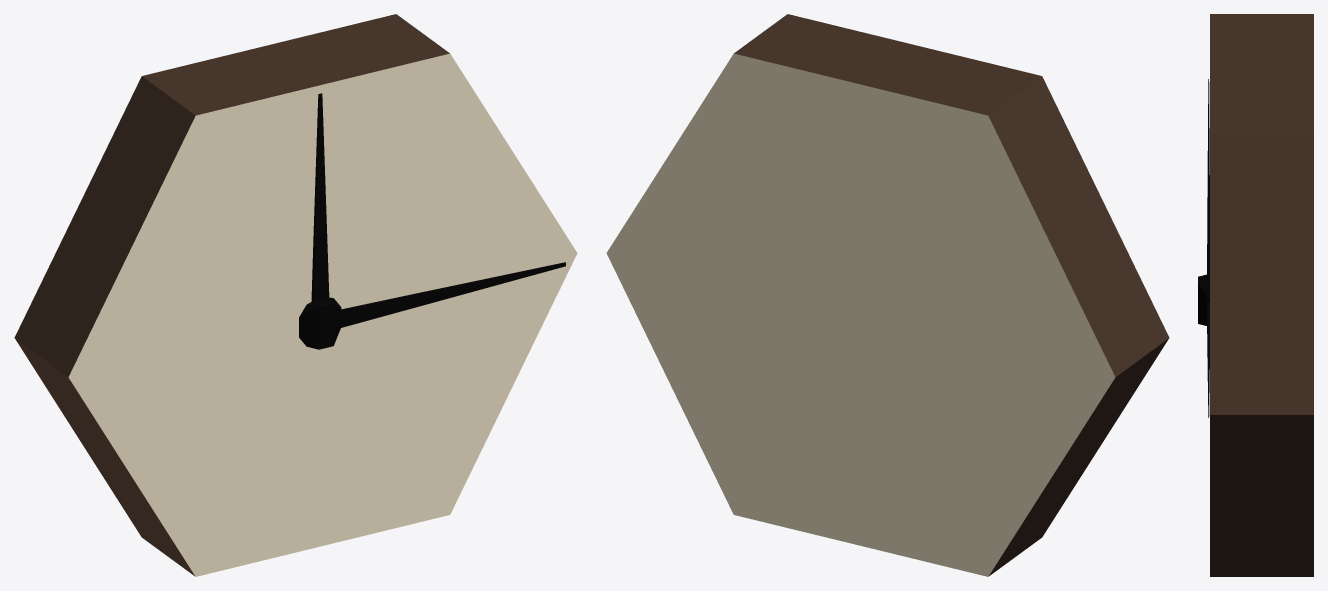
Rendered from Accesories_Clock_A.glb.
3 renders of one model, left to right at view 1: azimuth 30°, elevation 25°; view 2: azimuth 150°, elevation 25°; view 3: azimuth 270°, elevation 25°, orthographic. The views are drawn at different scales.
Parts seen in each view (by area): view 1: Accesories_Clock_A; view 2: Accesories_Clock_A; view 3: Accesories_Clock_A.
Boxes of the visible parts, left/top/right/bottom form: Accesories_Clock_A: left=14, top=14, right=577, bottom=576; Accesories_Clock_A: left=606, top=14, right=1169, bottom=576; Accesories_Clock_A: left=1198, top=14, right=1313, bottom=576.
Size of the model in its own units: 0.3328 by 0.2882 by 0.0682.
1 material, 1 textured.
